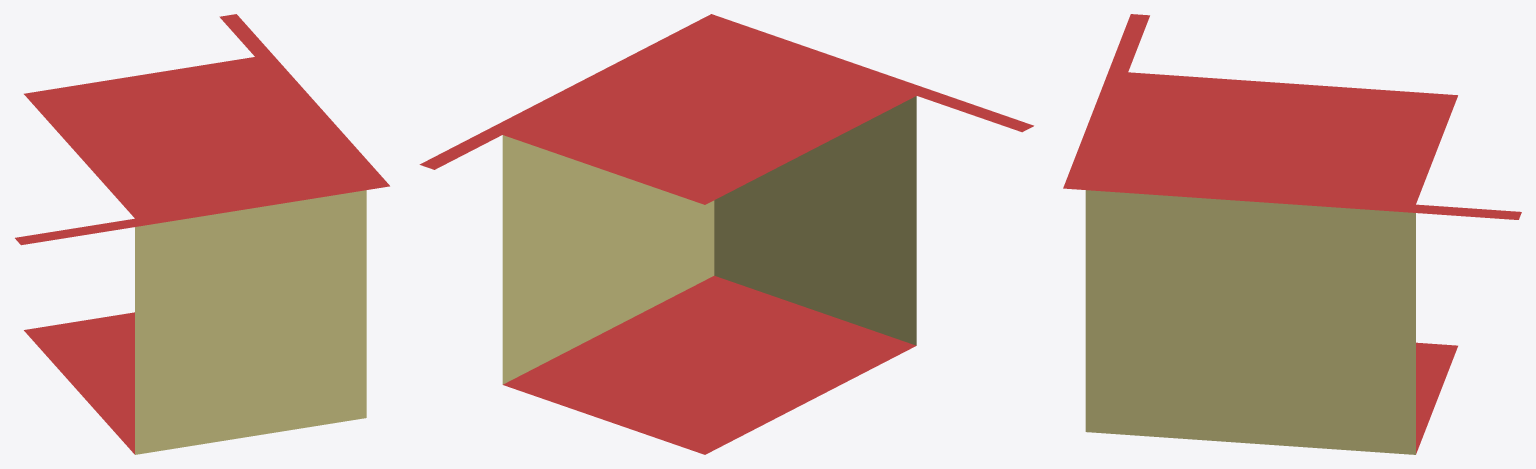
3 views of the same model, side by side, from view 1: azimuth 30°, elevation 25°; view 2: azimuth 150°, elevation 25°; view 3: azimuth 270°, elevation 25° (orthographic). The views are drawn at different scales.
Size of the model in its own units: 12.37 by 11.64 by 7.01.
